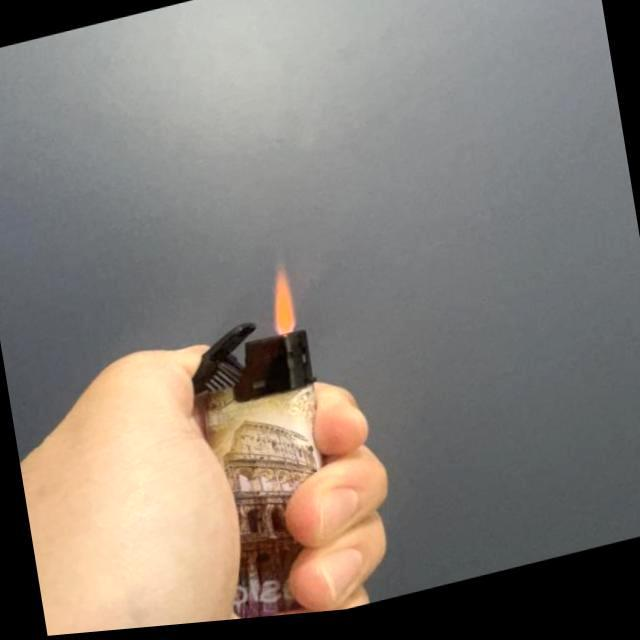fire: (262, 262, 298, 342)
